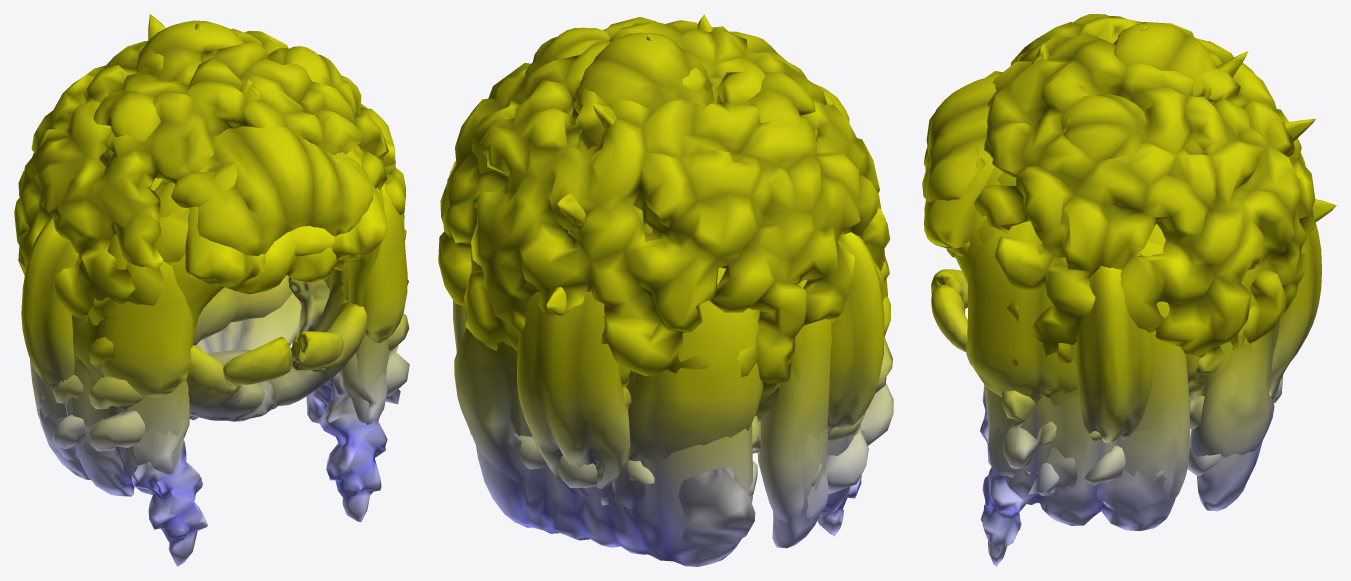
The model's file is doll_hair_lod1.glb.
3 renders of one model, left to right at view 1: azimuth 30°, elevation 25°; view 2: azimuth 150°, elevation 25°; view 3: azimuth 270°, elevation 25°, orthographic. The views are drawn at different scales.
Visible parts, largest first — view 1: hair_afro__hair, hair_bob__hair, hair_davidcut__hair, hair_braids__hair, hair_sleek__hair, hair_curls__hair, hair_waves__hair, beard_full__beard, hair_pigtails__hair, hair_spacebuns__hair, beard_mustache__beard, hair_bun__hair (+4 smaller); view 2: hair_afro__hair, hair_waves__hair, hair_sleek__hair, hair_ponytail__hair, hair_pigtails__hair, hair_bun__hair, hair_curls__hair, hair_spacebuns__hair, hair_mohawk__hair, hair_davidcut__hair, hair_braids__hair; view 3: hair_afro__hair, hair_waves__hair, hair_sleek__hair, hair_bob__hair, hair_pigtails__hair, hair_curls__hair, hair_davidcut__hair, hair_spacebuns__hair, hair_bun__hair, hair_ponytail__hair, hair_braids__hair, beard_mustache__beard (+1 smaller).
Part boxes in pixels (left/top/right/bottom): hair_afro__hair: left=14, top=28, right=405, bottom=345; hair_bob__hair: left=73, top=152, right=407, bottom=397; hair_davidcut__hair: left=197, top=126, right=373, bottom=256; hair_braids__hair: left=131, top=184, right=387, bottom=566; hair_sleek__hair: left=30, top=161, right=390, bottom=496; hair_curls__hair: left=38, top=145, right=409, bottom=451; hair_waves__hair: left=36, top=231, right=387, bottom=476; beard_full__beard: left=186, top=281, right=366, bottom=421; hair_pigtails__hair: left=21, top=150, right=404, bottom=390; hair_spacebuns__hair: left=93, top=46, right=343, bottom=166; beard_mustache__beard: left=223, top=331, right=343, bottom=384; hair_bun__hair: left=135, top=20, right=243, bottom=84; hair_afro__hair: left=438, top=17, right=890, bottom=421; hair_waves__hair: left=453, top=250, right=831, bottom=545; hair_sleek__hair: left=456, top=251, right=860, bottom=566; hair_ponytail__hair: left=517, top=291, right=630, bottom=488; hair_pigtails__hair: left=827, top=232, right=884, bottom=433; hair_bun__hair: left=571, top=32, right=714, bottom=148; hair_curls__hair: left=518, top=198, right=893, bottom=505; hair_spacebuns__hair: left=524, top=27, right=818, bottom=141; hair_mohawk__hair: left=546, top=14, right=712, bottom=315; hair_davidcut__hair: left=729, top=31, right=849, bottom=122; hair_braids__hair: left=817, top=475, right=861, bottom=536; hair_afro__hair: left=971, top=17, right=1315, bottom=395; hair_waves__hair: left=922, top=164, right=1279, bottom=513; hair_sleek__hair: left=955, top=175, right=1273, bottom=530; hair_bob__hair: left=924, top=147, right=1201, bottom=402; hair_pigtails__hair: left=986, top=166, right=1153, bottom=442; hair_curls__hair: left=948, top=172, right=1282, bottom=494; hair_davidcut__hair: left=926, top=74, right=999, bottom=202; hair_spacebuns__hair: left=1061, top=14, right=1146, bottom=160; hair_bun__hair: left=1113, top=22, right=1215, bottom=99; hair_ponytail__hair: left=1270, top=222, right=1321, bottom=402; hair_braids__hair: left=978, top=218, right=1030, bottom=566; beard_mustache__beard: left=931, top=269, right=967, bottom=351.
Bounding box in the file's own units: 0.7088 × 0.8391 × 0.6362.
